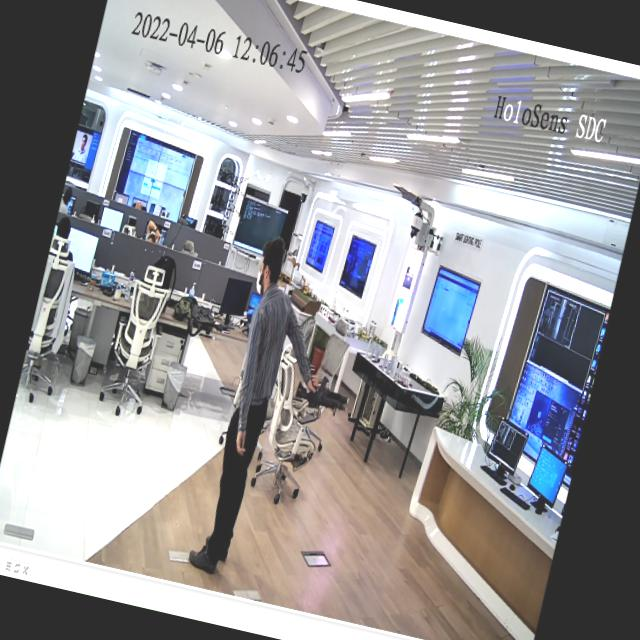long weapon: (288, 371, 357, 429)
